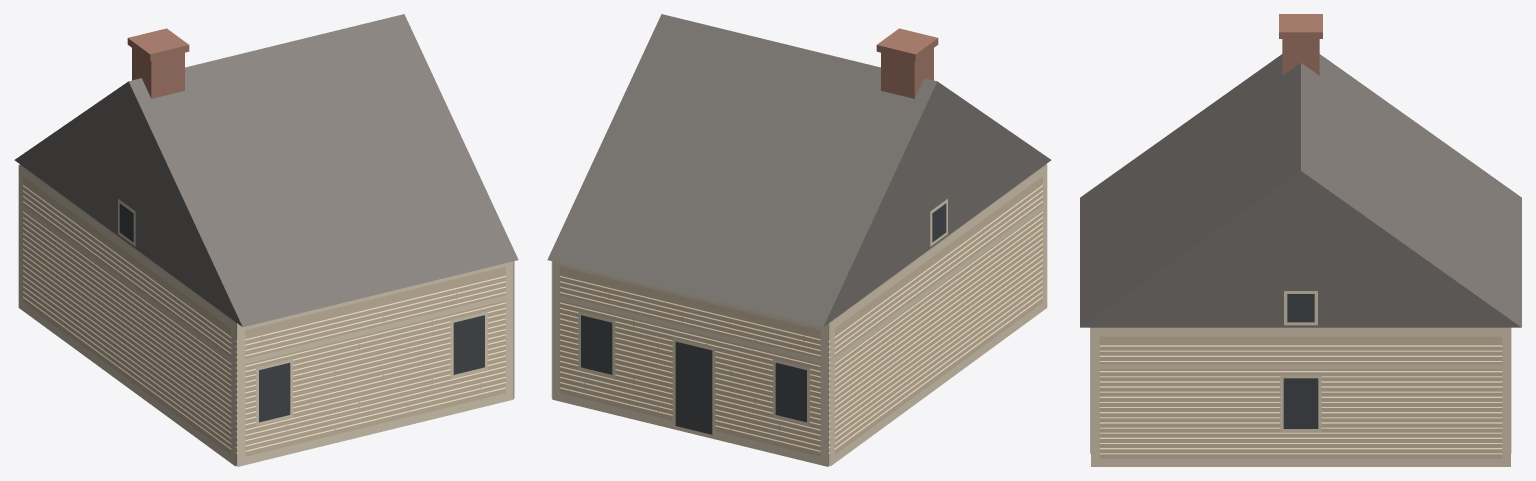
Rendered from recon_1835_north_d6_058__inferred_1835.glb.
The picture shows the model from 3 angles, left to right: view 1: azimuth 30°, elevation 25°; view 2: azimuth 150°, elevation 25°; view 3: azimuth 270°, elevation 25°; orthographic projection. The views are drawn at different scales.
Visible parts, largest first — view 1: recon_1835_north_d6_058__inferred_1835; view 2: recon_1835_north_d6_058__inferred_1835; view 3: recon_1835_north_d6_058__inferred_1835.
Boxes of the visible parts, x1,y1,x2,y2 form: recon_1835_north_d6_058__inferred_1835: (14, 14, 518, 466); recon_1835_north_d6_058__inferred_1835: (547, 14, 1051, 466); recon_1835_north_d6_058__inferred_1835: (1080, 14, 1521, 466).
Size of the model in its own units: 7.01 by 8.1 by 9.92.
